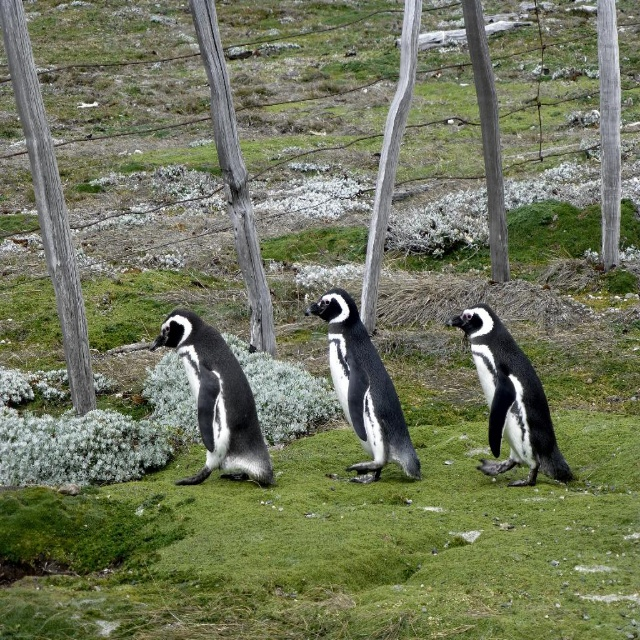Penguin: (442, 304, 575, 489), (302, 286, 422, 487), (150, 303, 274, 486)
